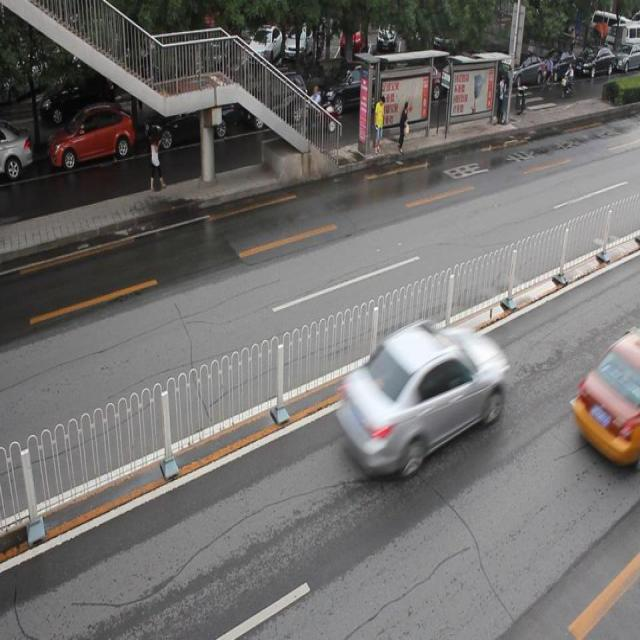car: (333, 323, 510, 478), (571, 336, 640, 464), (48, 105, 136, 174), (142, 90, 235, 142), (315, 60, 391, 118), (240, 72, 309, 133), (1, 125, 36, 182)
